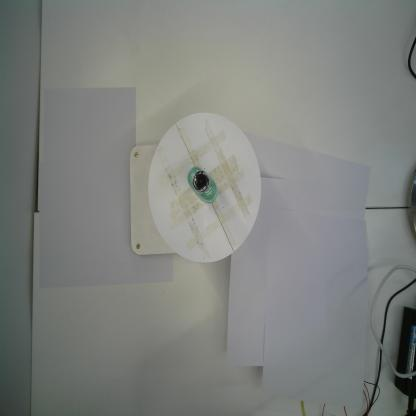Personal Hygiene: (187, 166, 218, 204)
